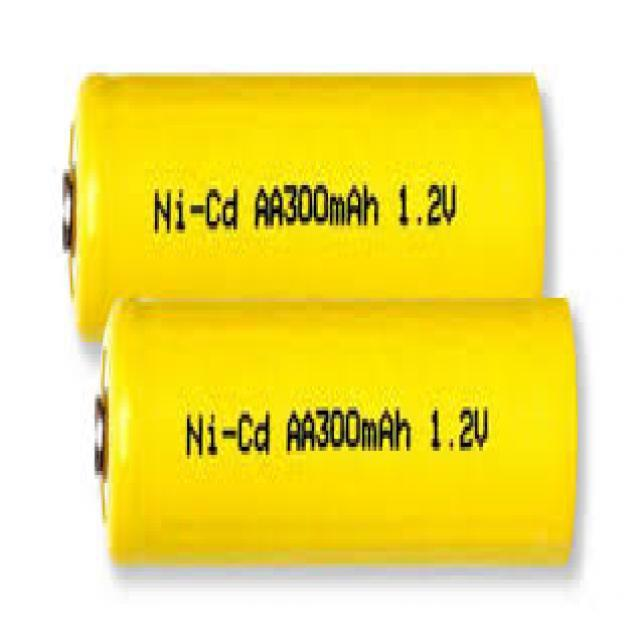battery: (94, 299, 578, 571), (63, 76, 554, 336)
